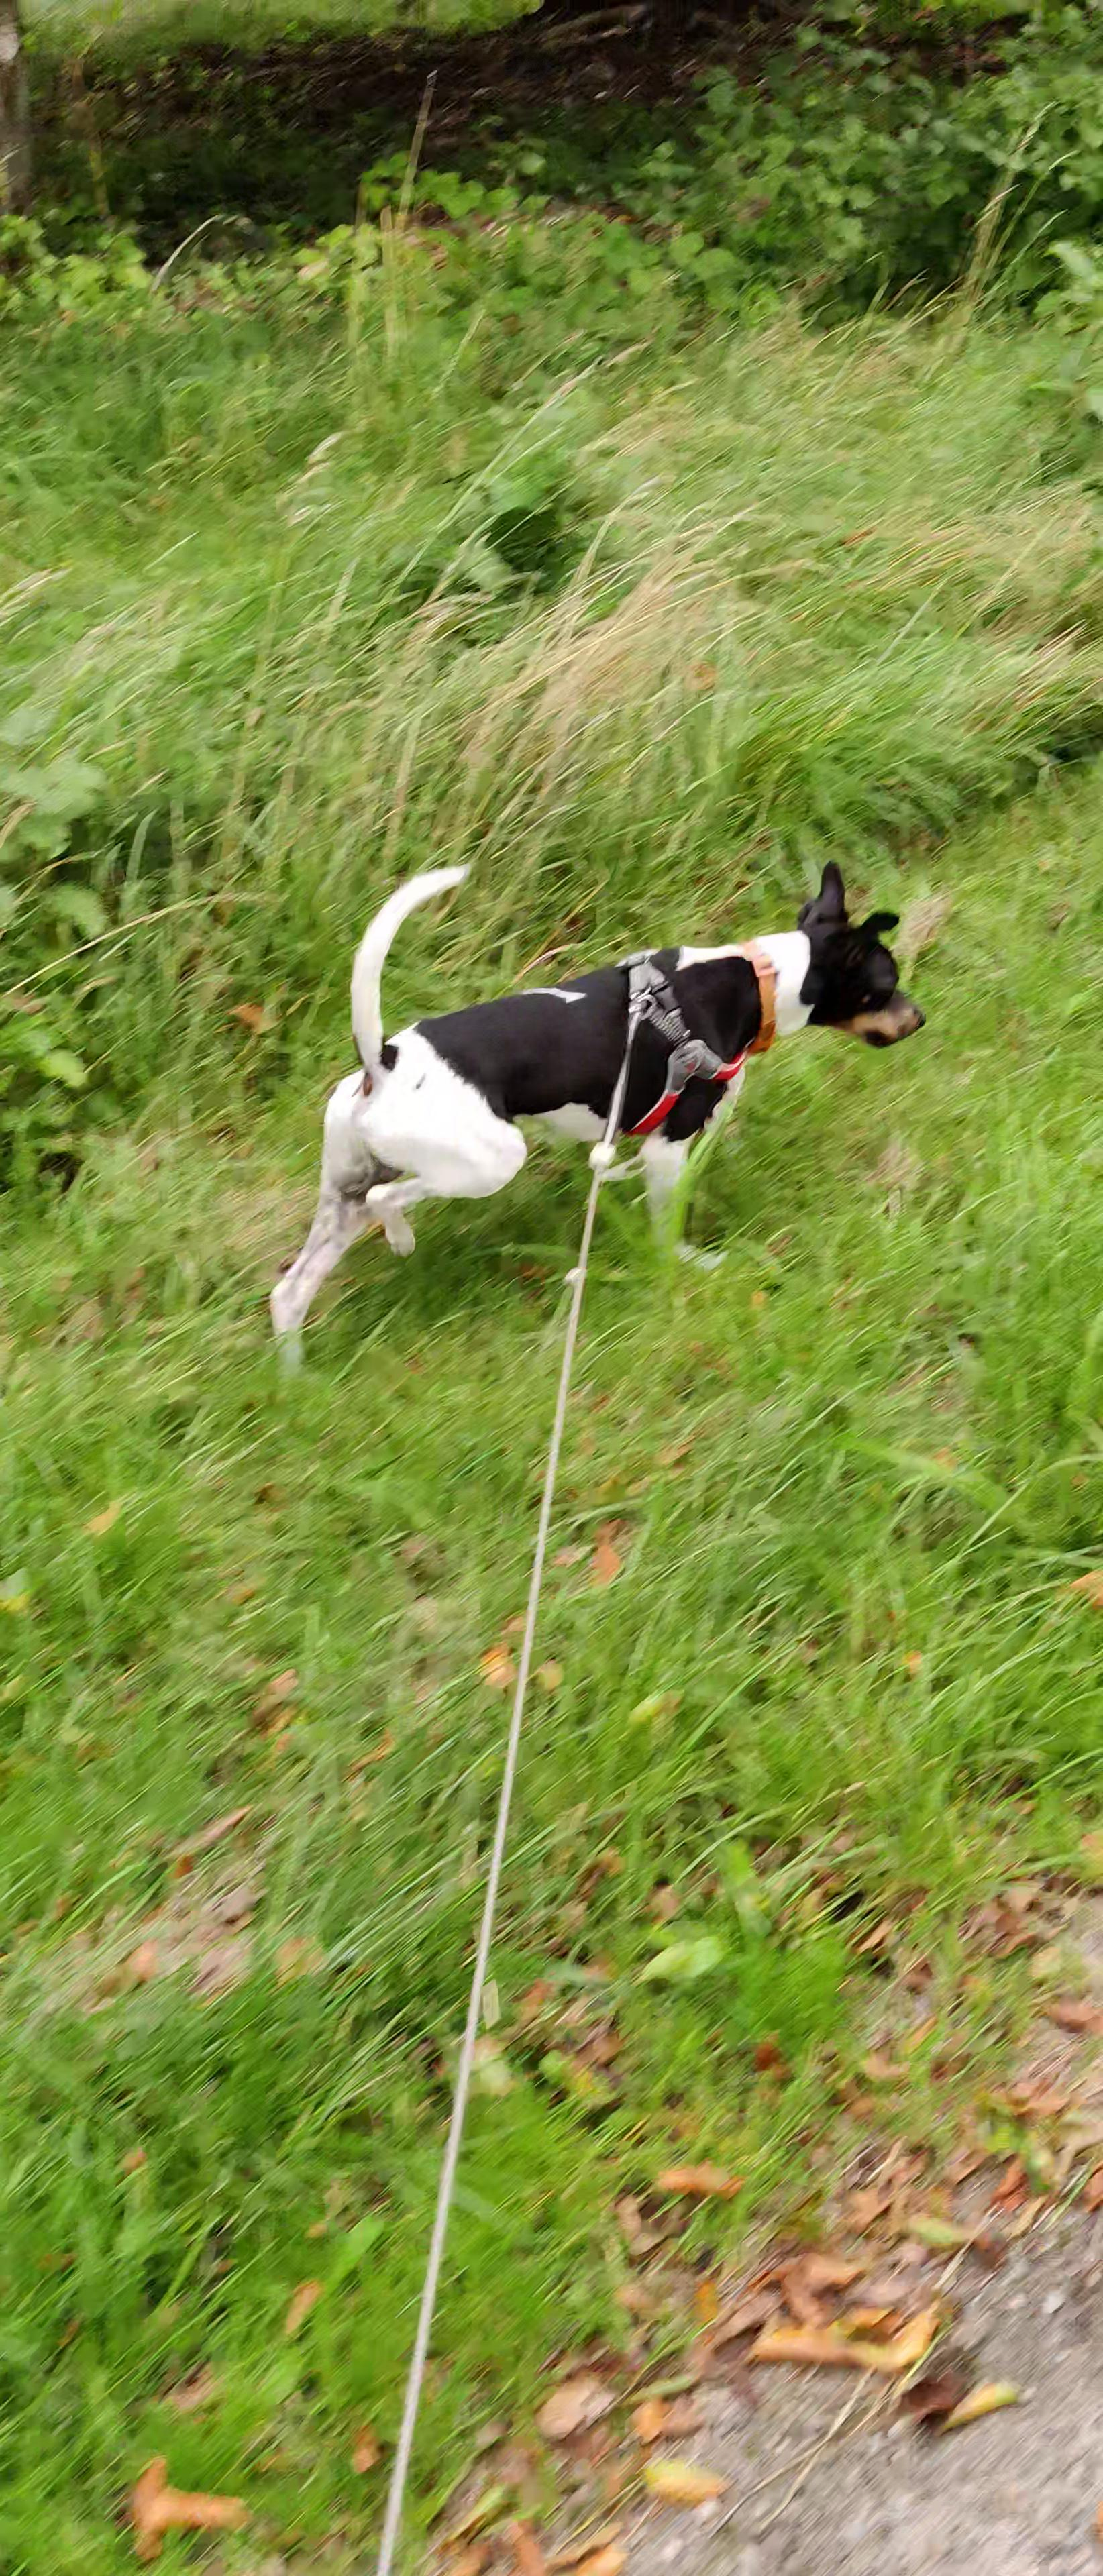Dog: (260, 854, 935, 1380)
